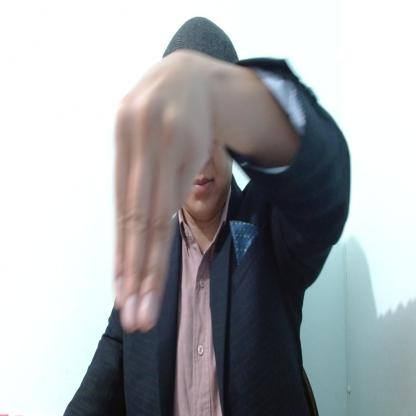M: (114, 50, 212, 331)
